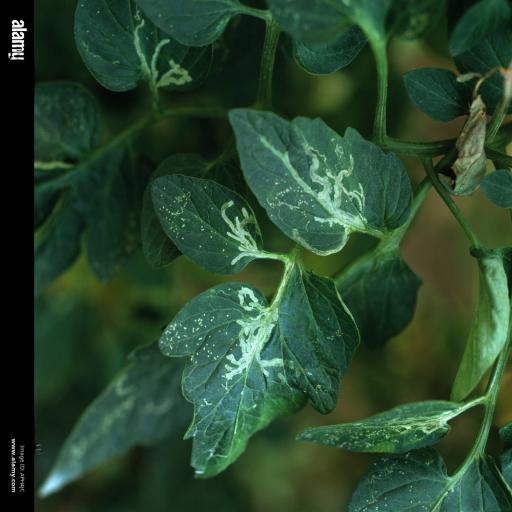Leaf Miner: (156, 277, 362, 482), (227, 104, 413, 256), (148, 171, 266, 275)
